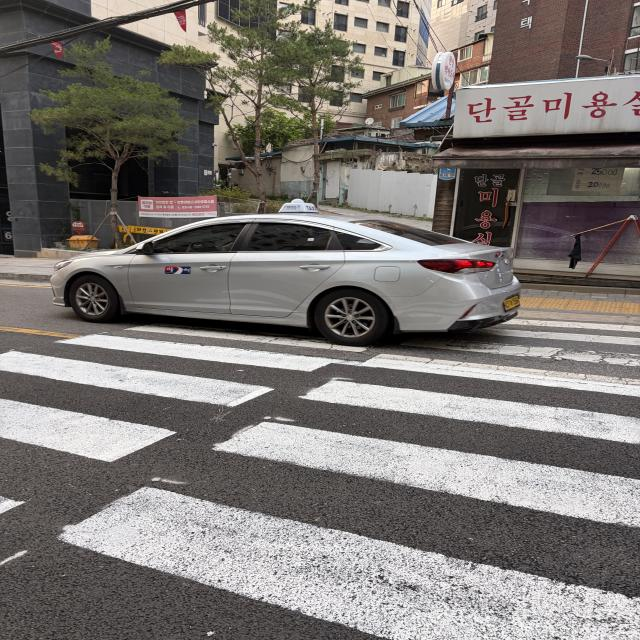car: (42, 188, 547, 354)
